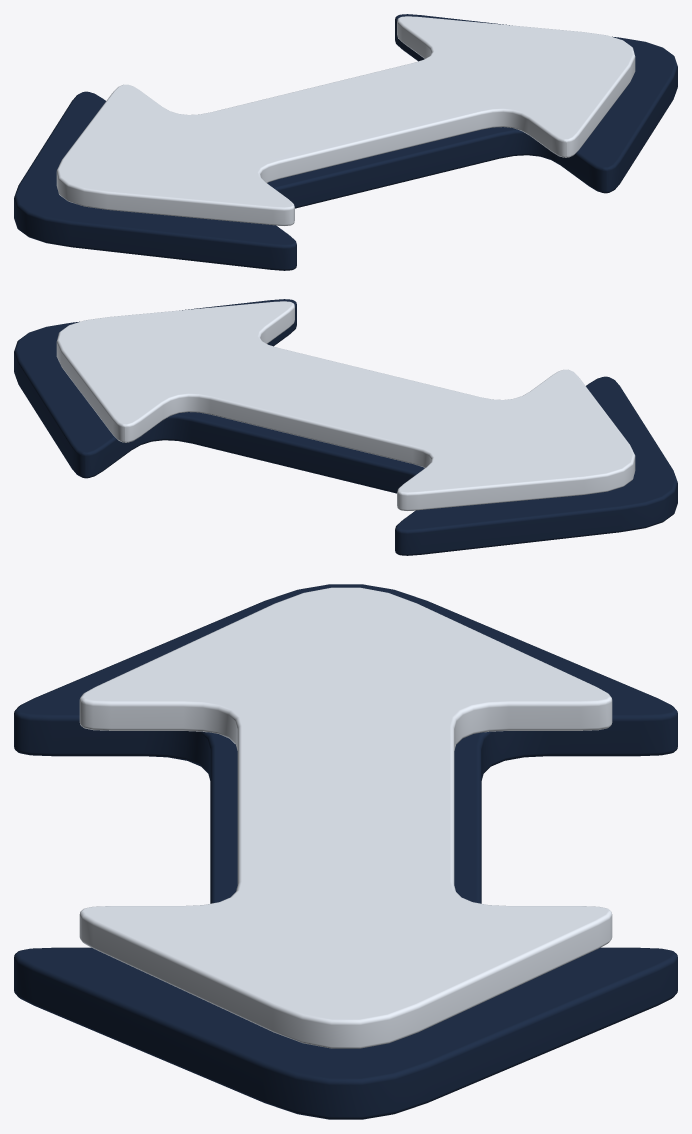
File: AFJ_Direction_Arrow.fbx
3 views of the same model, one above another, from view 1: azimuth 30°, elevation 25°; view 2: azimuth 150°, elevation 25°; view 3: azimuth 270°, elevation 25° (orthographic). The views are drawn at different scales.
Visible parts, largest first — view 1: Arrow_Silver, Arrow_Dark_Outline; view 2: Arrow_Silver, Arrow_Dark_Outline; view 3: Arrow_Silver, Arrow_Dark_Outline.
Part boxes in pixels (x1,y1,x2,y2): Arrow_Silver: (56,16,635,225); Arrow_Dark_Outline: (14,14,677,270); Arrow_Silver: (56,301,635,510); Arrow_Dark_Outline: (14,299,677,555); Arrow_Silver: (79,587,612,1048); Arrow_Dark_Outline: (14,584,677,1119).
Bounding box in the file's own units: 65.22 × 4.2 × 36.75.
